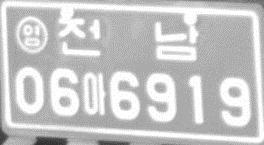0: (14, 66, 45, 115)
1: (180, 74, 213, 125)
6: (109, 70, 141, 121), (48, 67, 80, 117)
9: (218, 76, 252, 127), (145, 72, 177, 122)
아: (82, 71, 108, 116)
영: (15, 16, 48, 54)
전남_D: (57, 16, 199, 62)
